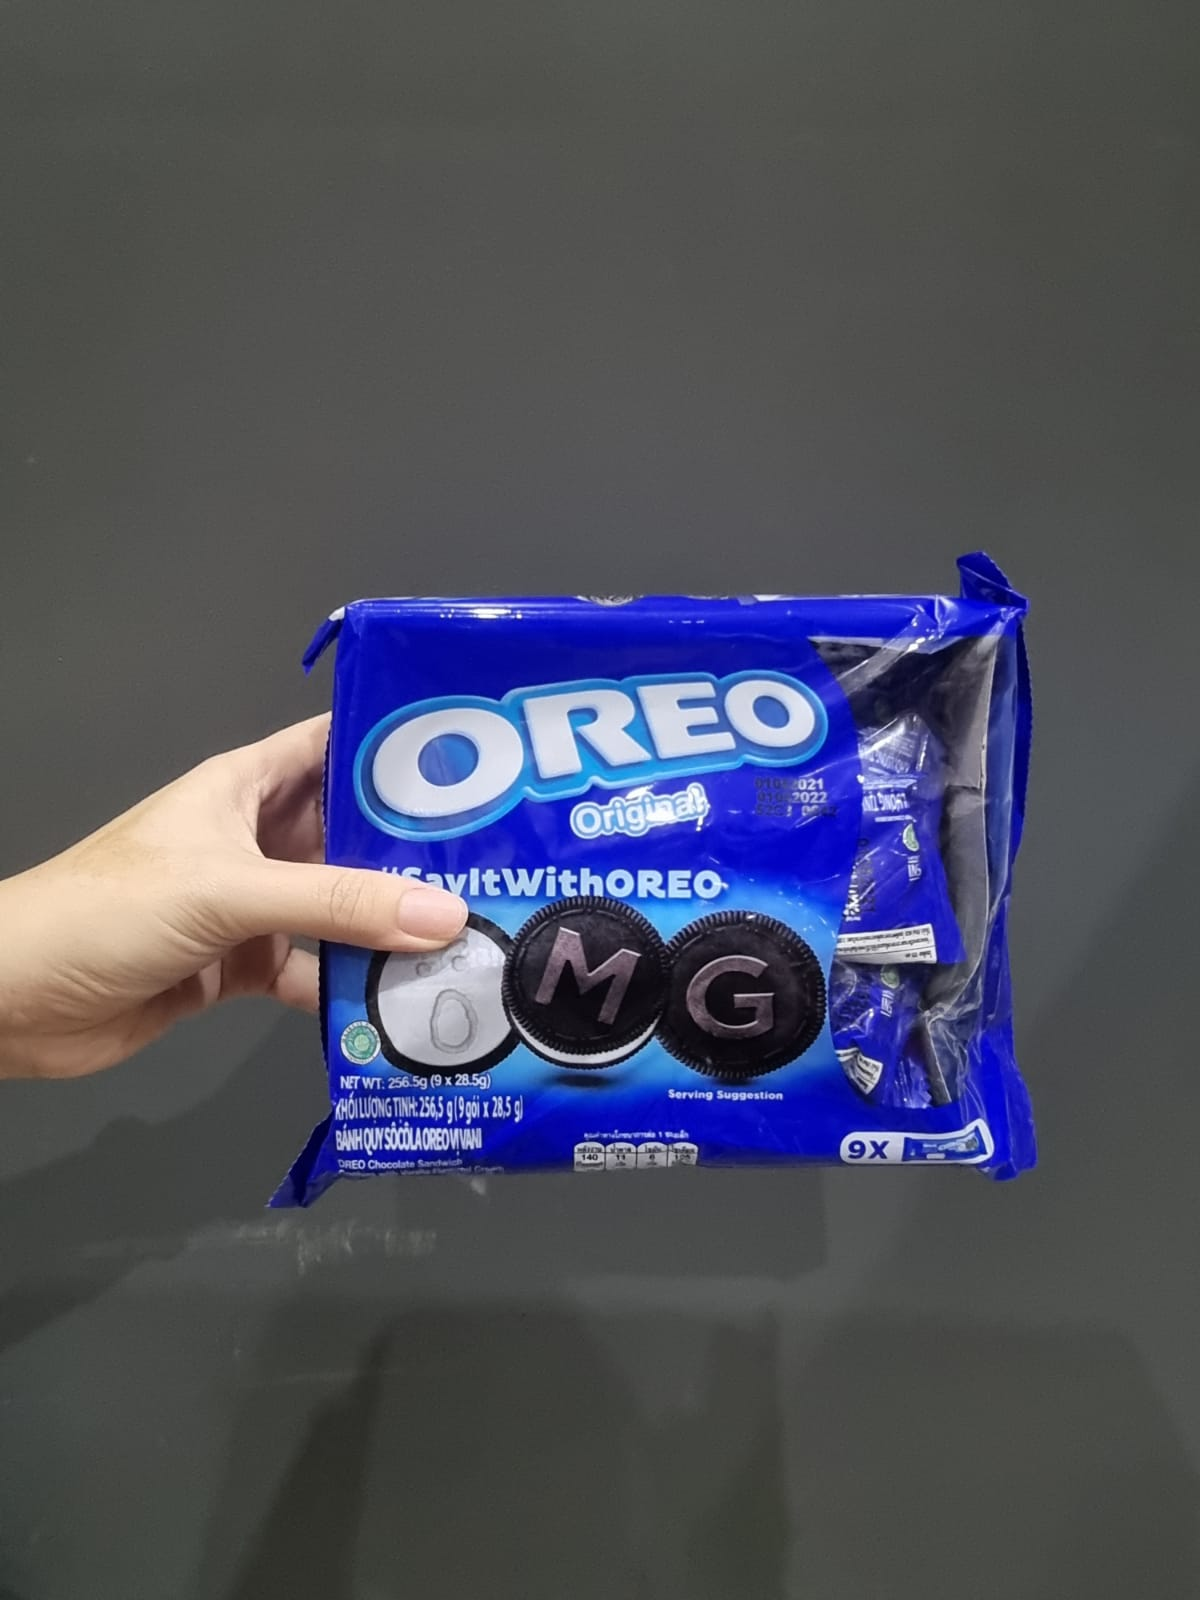Biscuits: (354, 624, 997, 1169)
